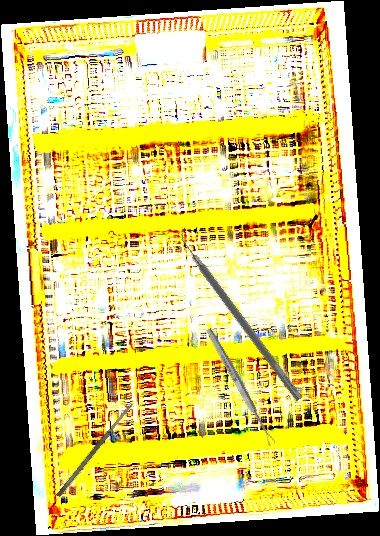Spatula Surgical: (172, 227, 310, 402), (55, 402, 135, 498)
Surgical Spoon: (204, 327, 277, 447)
